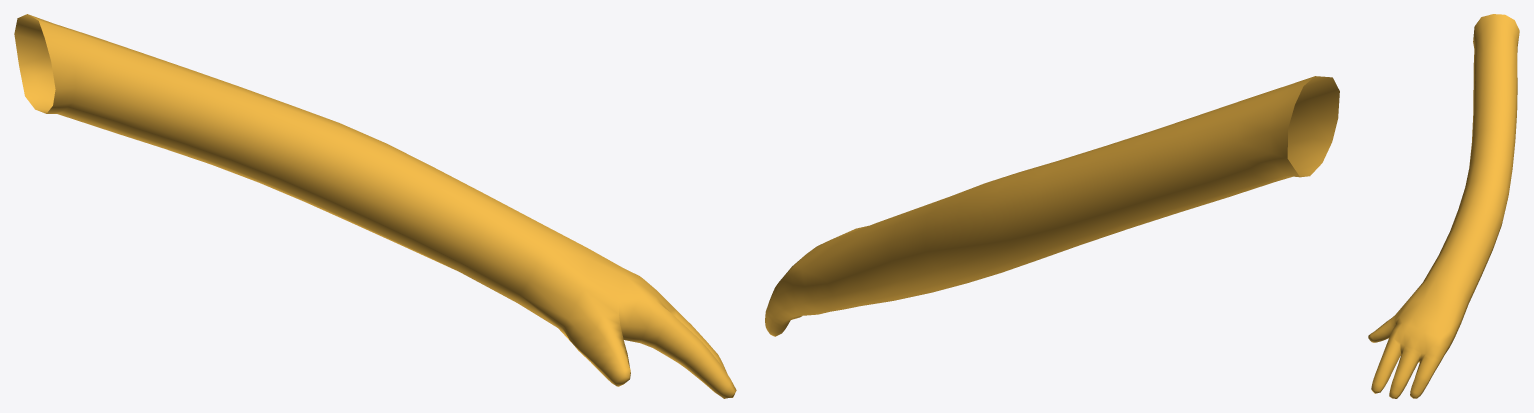
Rendered from L_arm.obj.
3 renders of one model, left to right at view 1: azimuth 30°, elevation 25°; view 2: azimuth 150°, elevation 25°; view 3: azimuth 270°, elevation 25°, orthographic. The views are drawn at different scales.
Visible parts, largest first — view 1: L_arm Jake; view 2: L_arm Jake; view 3: L_arm Jake.
Part boxes in pixels (box(x1,y1,x2,y2)): L_arm Jake: box(14, 14, 736, 398); L_arm Jake: box(765, 76, 1339, 336); L_arm Jake: box(1368, 14, 1519, 398).
Size of the model in its own units: 5 by 3.52 by 2.07.
